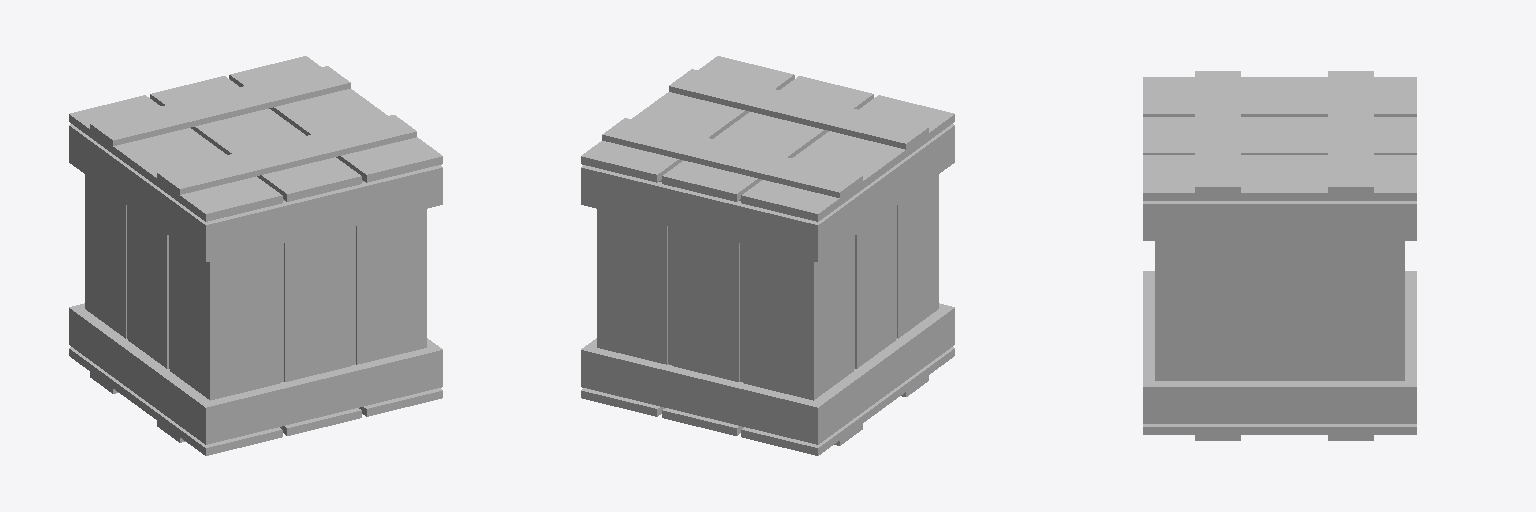
Rendered from Crate_Sealed_01 1_1_0.obj.
3 renders of one model, left to right at view 1: azimuth 30°, elevation 25°; view 2: azimuth 150°, elevation 25°; view 3: azimuth 270°, elevation 25°, orthographic.
Visible parts, largest first — view 1: Crate_Sealed_01 1; view 2: Crate_Sealed_01 1; view 3: Crate_Sealed_01 1.
Boxes of the visible parts, x1=… form: Crate_Sealed_01 1: x1=69, y1=56, x2=442, y2=455; Crate_Sealed_01 1: x1=581, y1=56, x2=954, y2=455; Crate_Sealed_01 1: x1=1143, y1=71, x2=1416, y2=440.
Bounding box in the file's own units: 3.05 × 3.11 × 3.05.